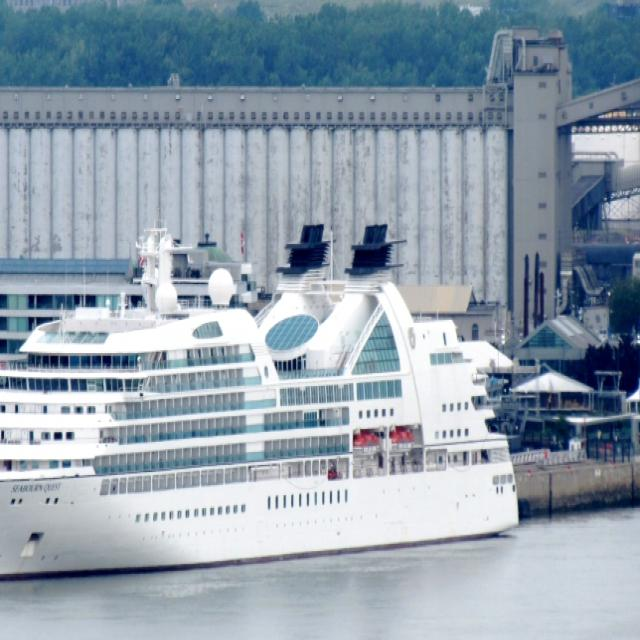cruises: (1, 209, 523, 588)
